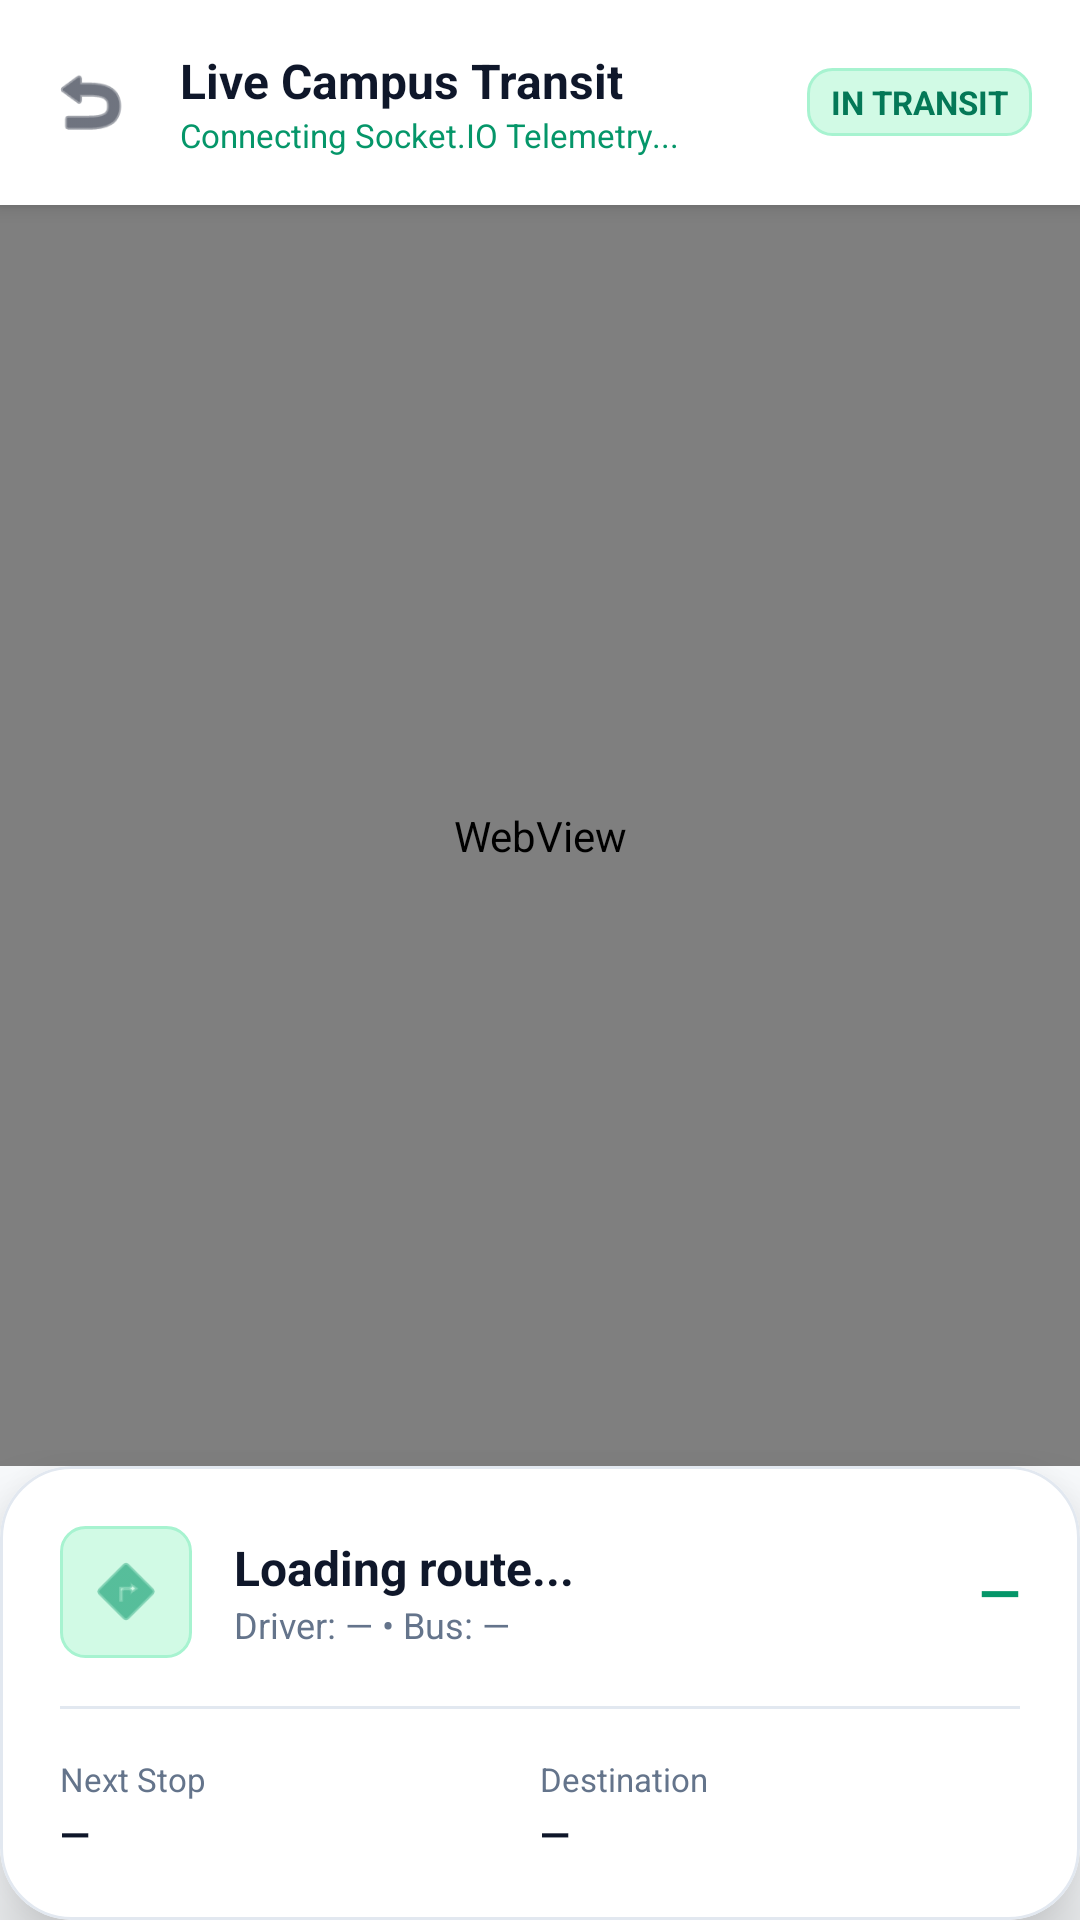

Named icons in this screenshot (1080px x 1920px) and their centers, (x,y):
directions: (126,1592)
revert: (91,102)
